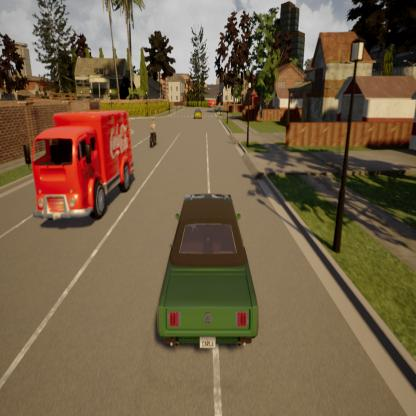Cars: (151, 183, 265, 358)
